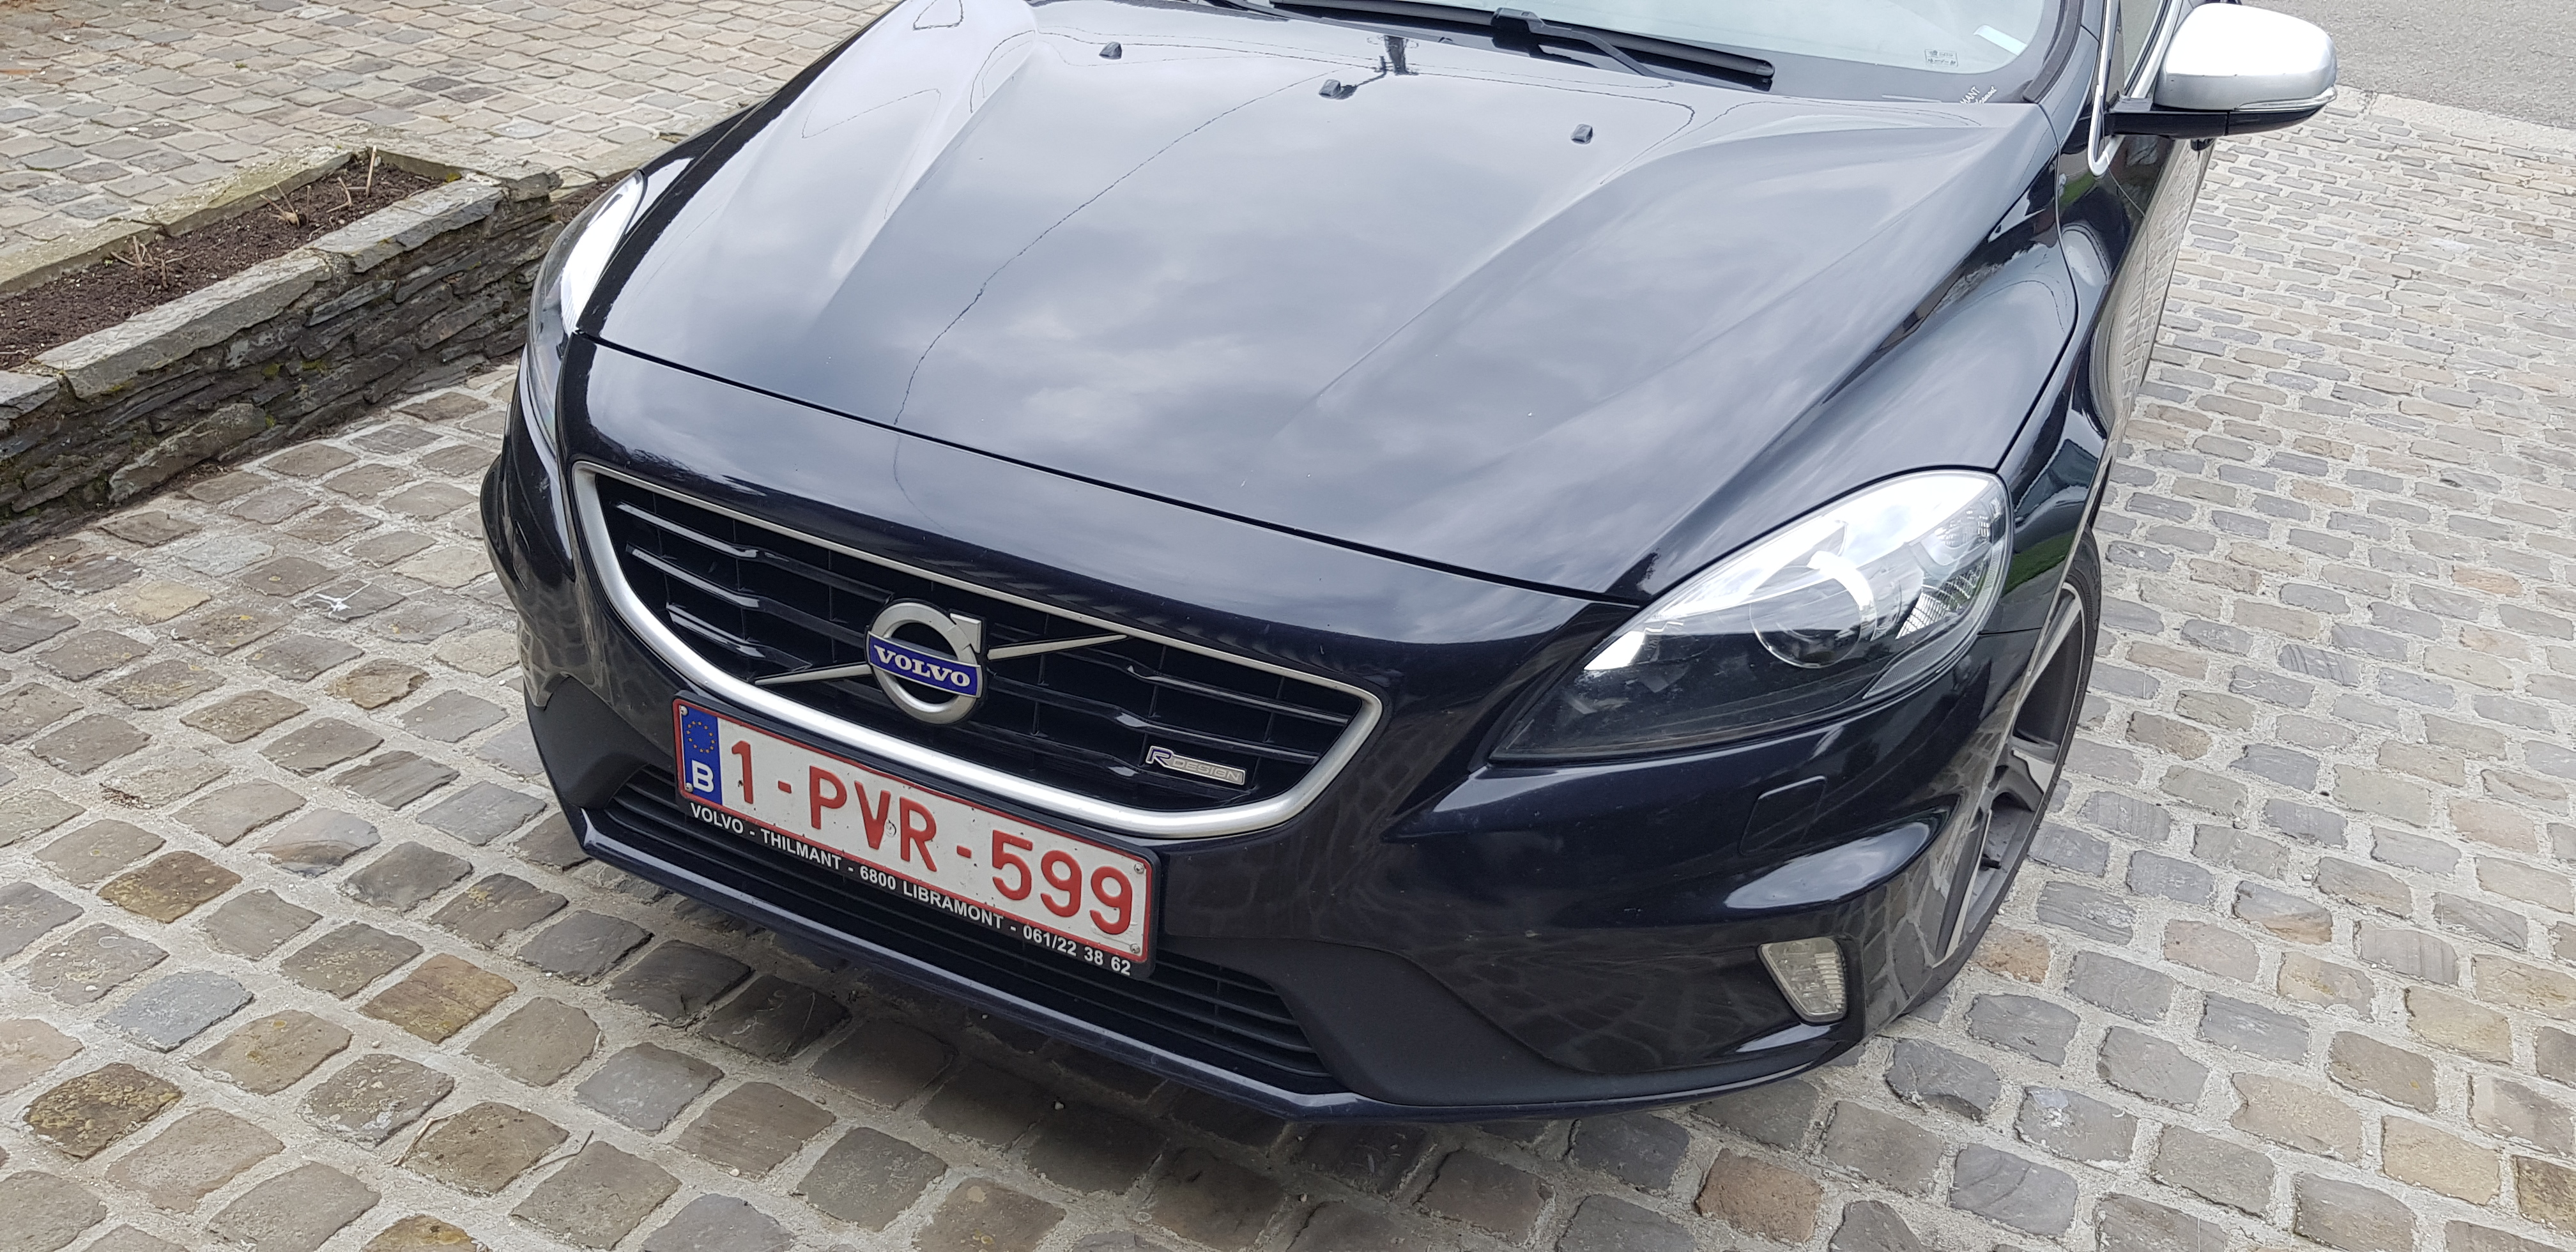licenceplate: (670, 692, 1156, 975)
